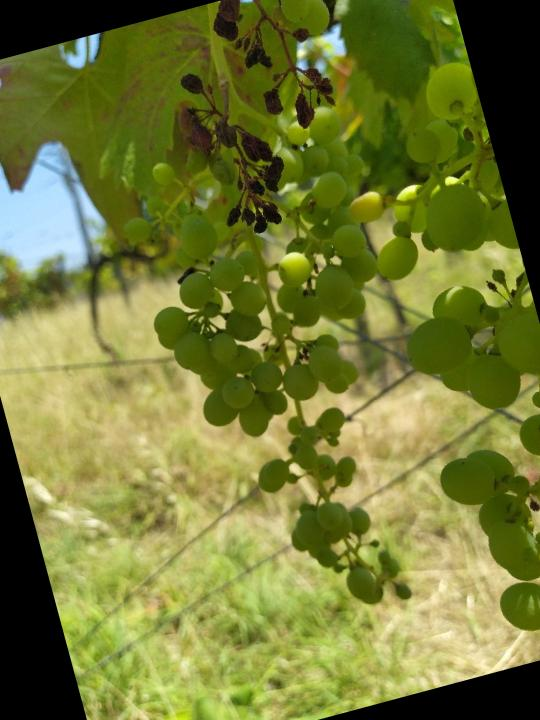grape: (86, 67, 487, 663), (145, 0, 382, 253)
